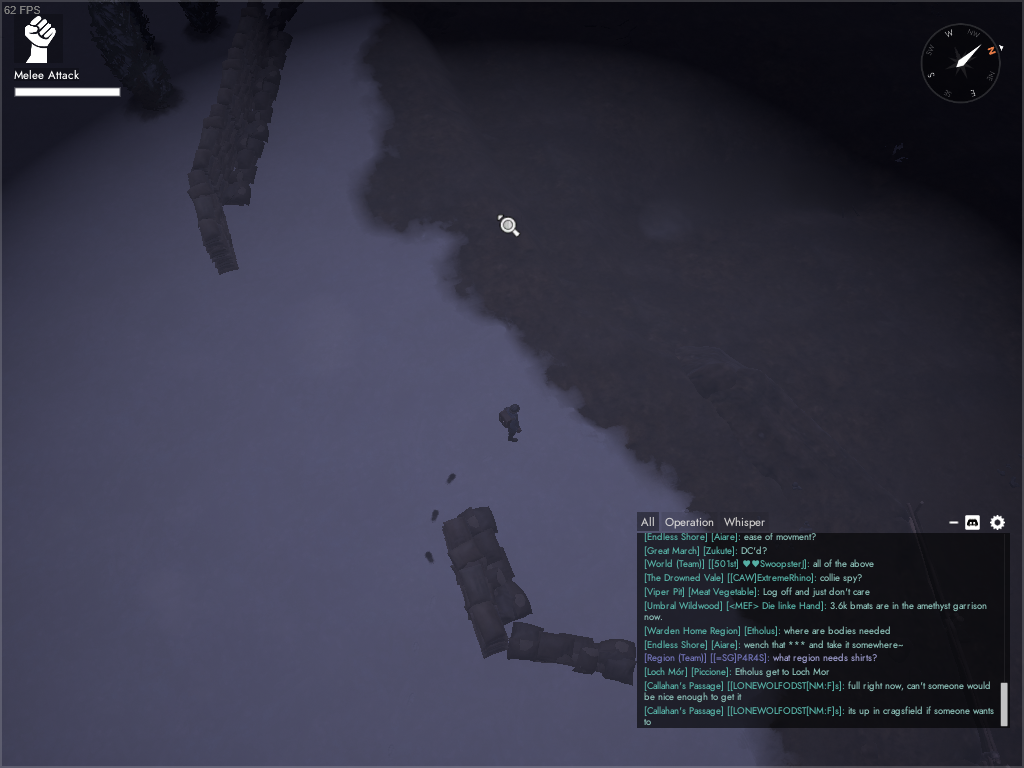player: (498, 403, 522, 444)
sandbag: (442, 503, 535, 660), (191, 85, 273, 207), (507, 619, 636, 687), (219, 1, 294, 99), (185, 169, 243, 277)
